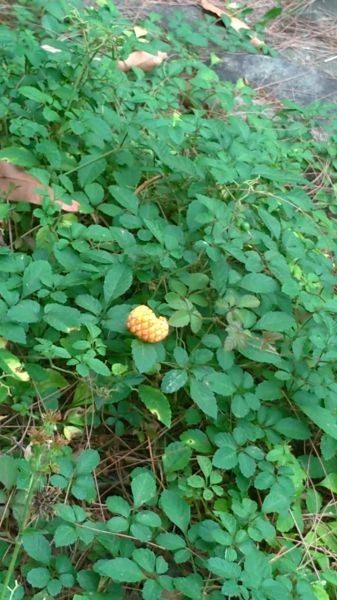eggs: (121, 299, 174, 348)
